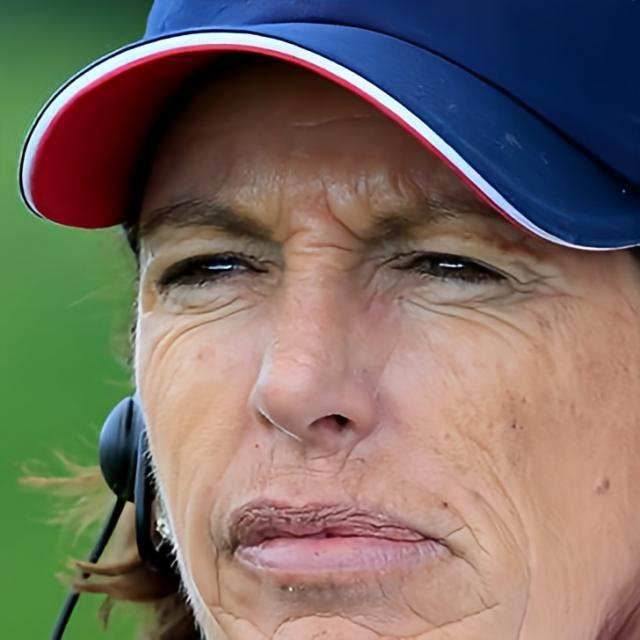disgust: (132, 51, 640, 640)
